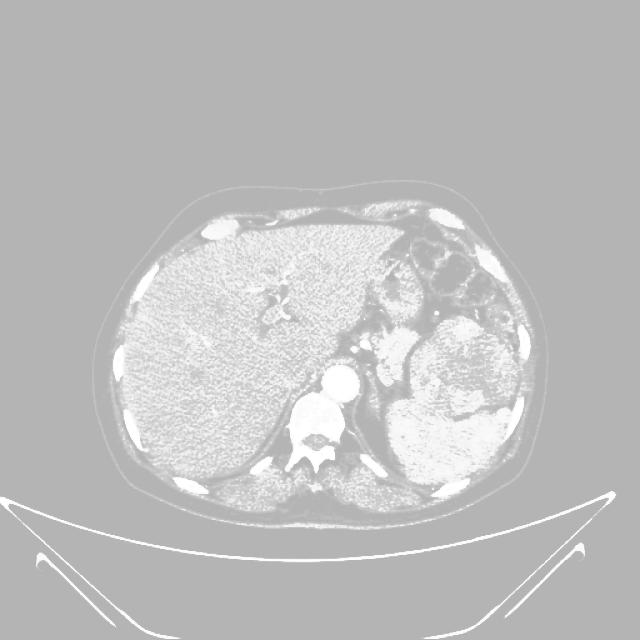TUMOR: (368, 229, 538, 477)
